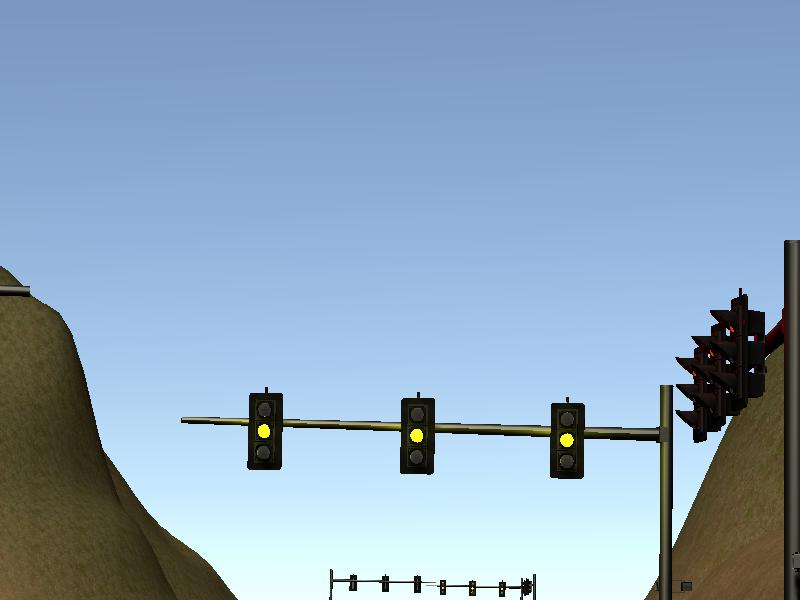Yellow: (400, 398, 433, 475), (550, 404, 584, 477), (250, 392, 280, 470)
